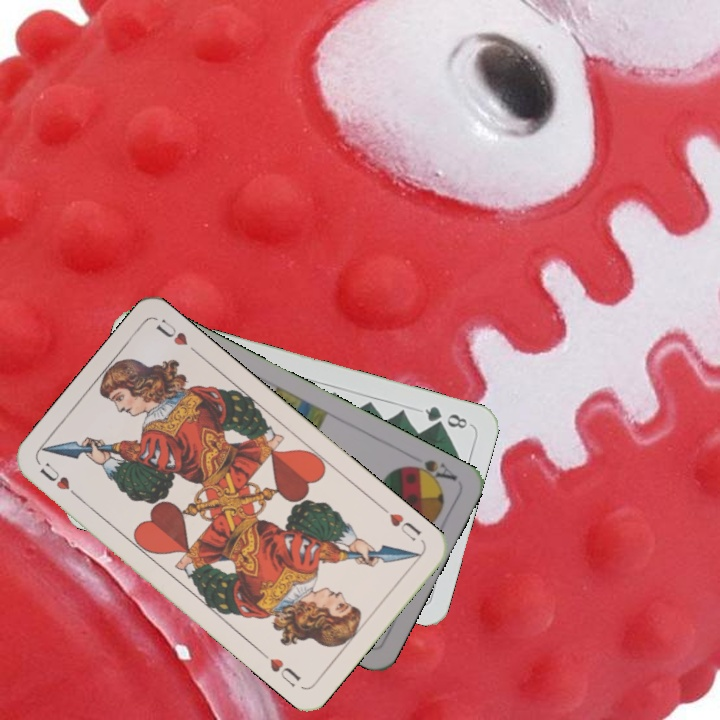G8: (421, 402, 473, 432)
HU: (36, 458, 84, 503), (385, 509, 424, 544)
SA: (400, 455, 460, 488)
